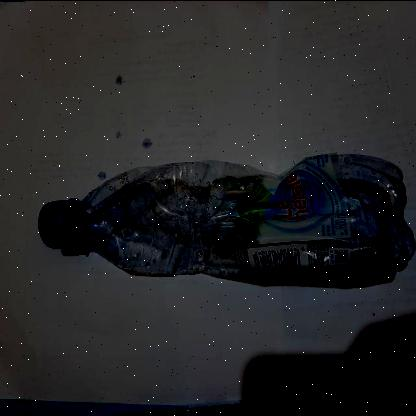Plastic Bottle: (37, 154, 415, 278)
